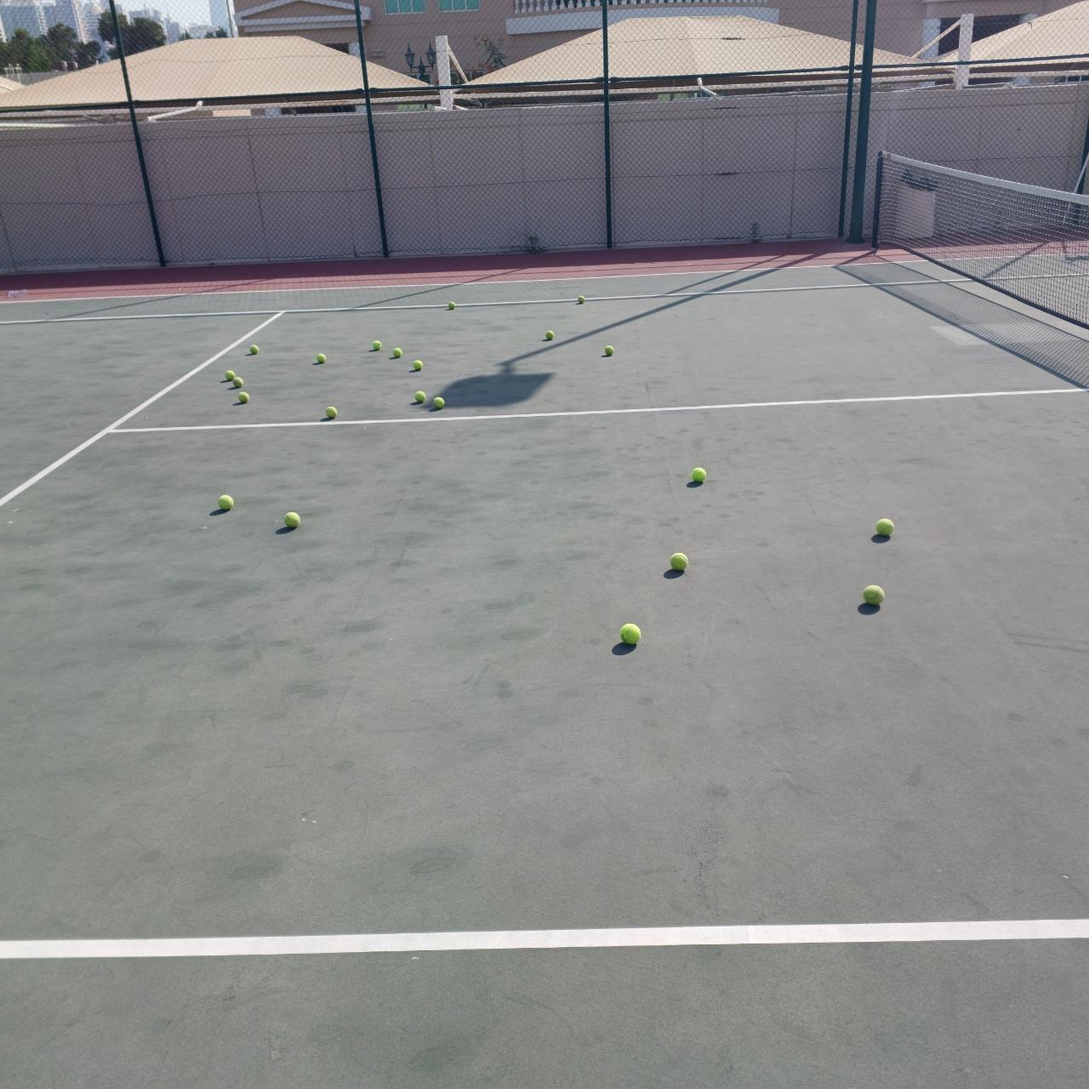tennis-ball: (618, 621, 641, 646), (861, 582, 885, 605), (874, 516, 893, 537), (669, 550, 688, 571), (282, 510, 300, 528), (216, 492, 233, 510), (689, 465, 706, 482), (431, 394, 445, 410), (323, 404, 337, 419), (414, 390, 426, 403), (224, 369, 236, 381), (604, 344, 615, 356), (238, 391, 249, 403), (233, 376, 244, 387), (413, 360, 423, 372), (249, 344, 259, 355), (372, 340, 382, 351), (392, 347, 402, 358), (316, 353, 326, 363), (545, 330, 554, 341), (578, 295, 585, 304), (448, 301, 455, 310)
